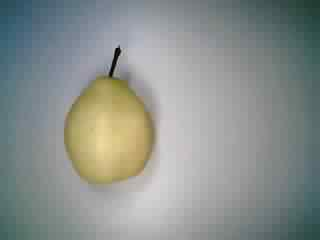pear: (53, 34, 161, 195)
